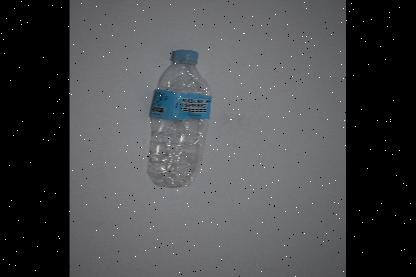Plastic Bottle: (146, 49, 212, 190)
